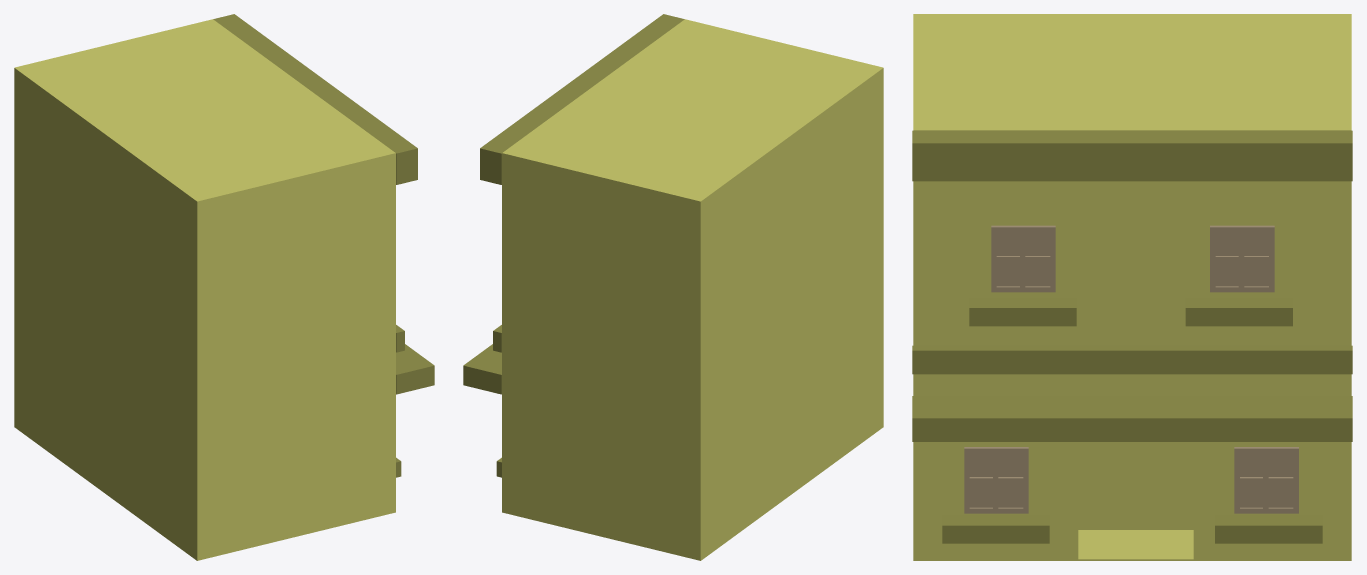
The model's file is Building02.fbx.
3 views of the same model, side by side, from view 1: azimuth 30°, elevation 25°; view 2: azimuth 150°, elevation 25°; view 3: azimuth 270°, elevation 25° (orthographic). The views are drawn at different scales.
Parts seen in each view (by area): view 1: pCube87, pCube90, pCube88; view 2: pCube87, pCube90, pCube88; view 3: pCube87, pCube90, pCube88, pCube89, Window9, Window10, Window11, Window12, pCube91, pCube93, pCube94, pCube92.
Boxes of the visible parts, <box> form: pCube87: <box>14,19,395,560</box>; pCube90: <box>213,14,417,184</box>; pCube88: <box>396,344,434,394</box>; pCube87: <box>502,19,883,560</box>; pCube90: <box>480,14,684,184</box>; pCube88: <box>463,344,501,394</box>; pCube87: <box>913,14,1351,560</box>; pCube90: <box>912,130,1352,181</box>; pCube88: <box>912,396,1352,441</box>; pCube89: <box>912,345,1352,374</box>; Window9: <box>1210,225,1274,292</box>; Window10: <box>991,225,1055,292</box>; Window11: <box>964,447,1028,513</box>; Window12: <box>1234,447,1298,513</box>; pCube91: <box>969,298,1076,326</box>; pCube93: <box>942,515,1049,543</box>; pCube94: <box>1215,515,1322,543</box>; pCube92: <box>1185,298,1292,326</box>.
Size of the model in its own units: 11.99 by 17.36 by 16.07.
